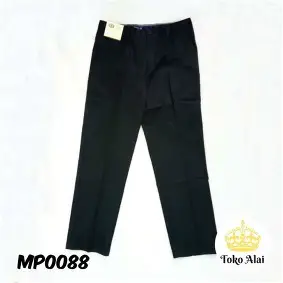celana_benar: (63, 16, 218, 253)
